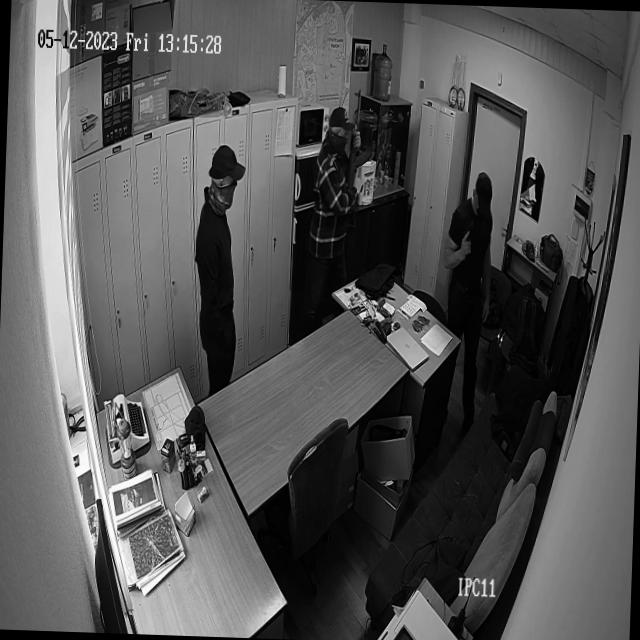gun: (348, 88, 375, 228), (464, 218, 474, 246)
person: (192, 132, 257, 363)
person with a gun: (438, 129, 498, 480), (307, 103, 363, 334)
